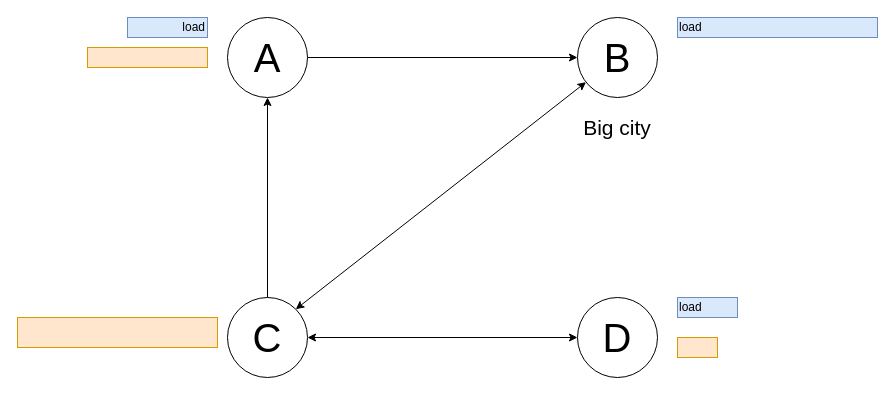
Some shapes in this 895 by 395 pixel diagram are drawn without their labels. The shapes that lost their labels are listed below. From the top down, each one's centre as x and y in pixels, then its label:
At pixel 147 57: "gas".
At pixel 117 332: "nuclear".
At pixel 697 347: "eolien".
